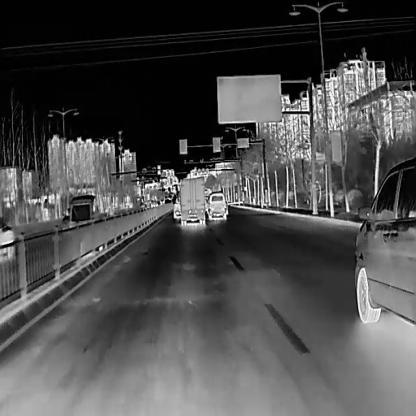car: (354, 153, 416, 327), (67, 194, 106, 233), (178, 176, 205, 225), (206, 190, 226, 220), (173, 190, 180, 219), (150, 200, 158, 210)
